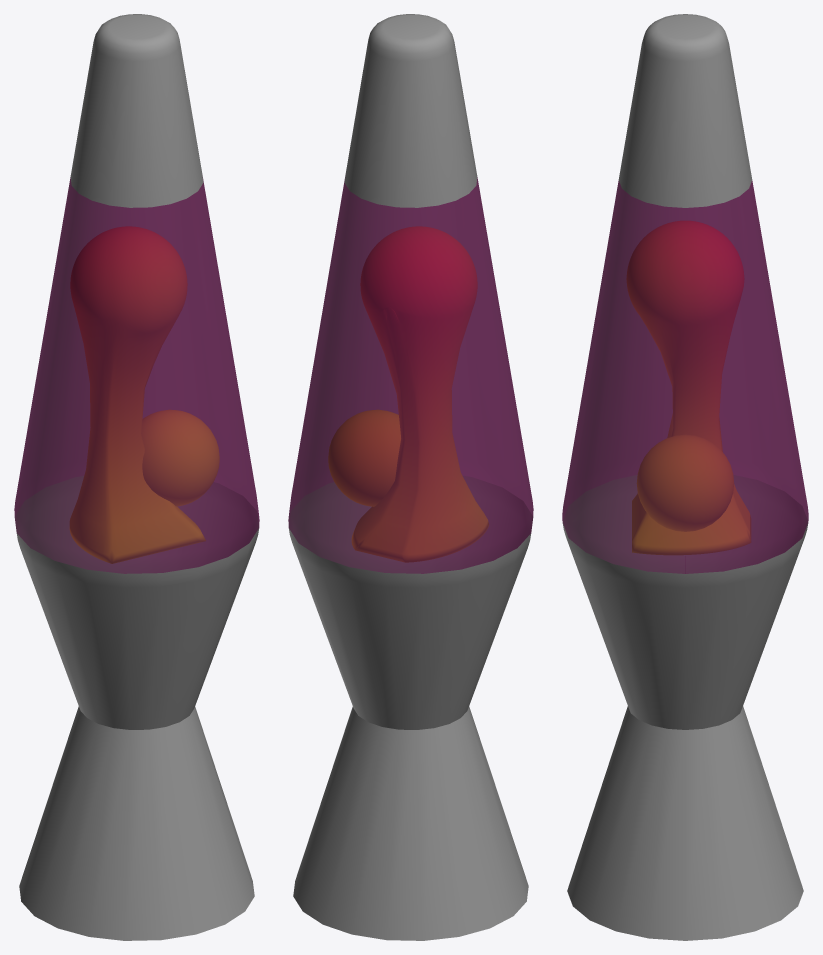
The model's file is Bloop.fbx.
The picture shows the model from 3 angles, left to right: view 1: azimuth 30°, elevation 25°; view 2: azimuth 150°, elevation 25°; view 3: azimuth 270°, elevation 25°; orthographic projection.
Parts seen in each view (by area): view 1: Cylinder006, Object005, Sphere001; view 2: Cylinder006, Object005, Sphere001; view 3: Cylinder006, Object005, Sphere001.
Part boxes in pixels (left/top/right/bottom): Cylinder006: left=15, top=14, right=259, bottom=940; Object005: left=14, top=177, right=259, bottom=573; Sphere001: left=70, top=226, right=219, bottom=563; Cylinder006: left=288, top=14, right=532, bottom=940; Object005: left=288, top=177, right=533, bottom=573; Sphere001: left=328, top=226, right=488, bottom=562; Cylinder006: left=562, top=14, right=808, bottom=940; Object005: left=562, top=180, right=808, bottom=573; Sphere001: left=626, top=221, right=750, bottom=554.
Size of the model in its own units: 35.48 by 137 by 35.48.
